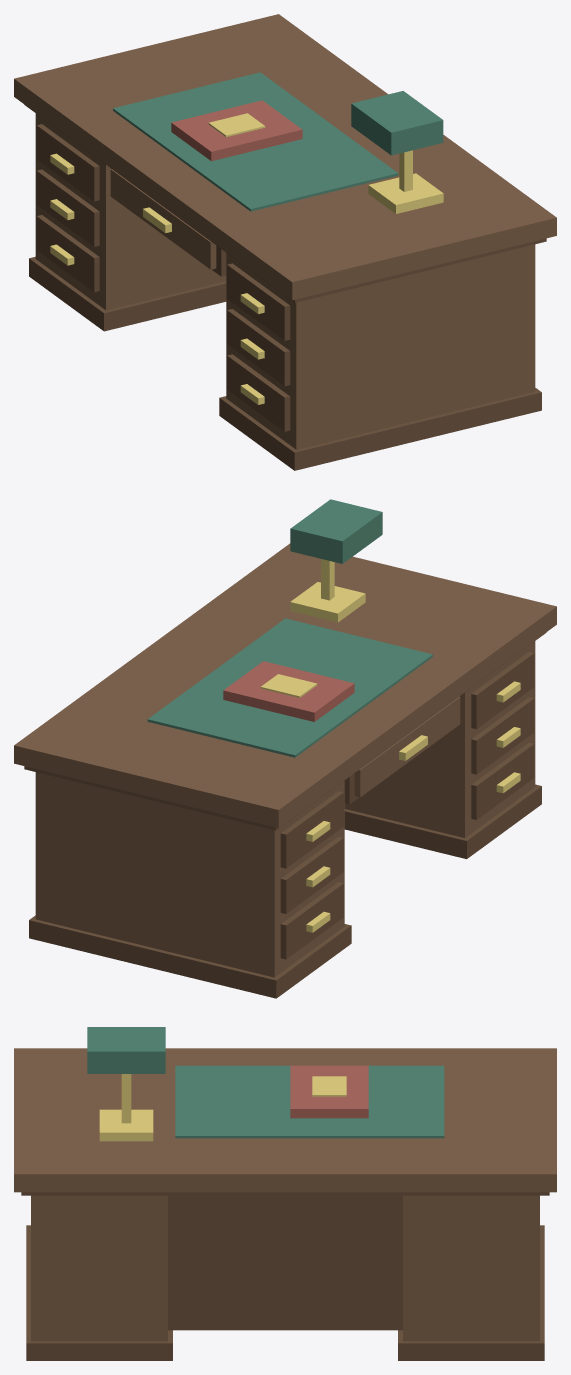
Rendered from desk.glb.
The picture shows the model from 3 angles, top to bottom: view 1: azimuth 30°, elevation 25°; view 2: azimuth 150°, elevation 25°; view 3: azimuth 270°, elevation 25°; orthographic projection. The views are drawn at different scales.
Parts seen in each view (by area): view 1: AntiqueStudyDesk; view 2: AntiqueStudyDesk; view 3: AntiqueStudyDesk.
Part boxes in pixels (x1,y1,x2,y2): AntiqueStudyDesk: [14, 14, 556, 470]; AntiqueStudyDesk: [14, 499, 556, 998]; AntiqueStudyDesk: [14, 1027, 556, 1360].
Bounding box in the file's own units: 1.22 × 1.25 × 2.22.
